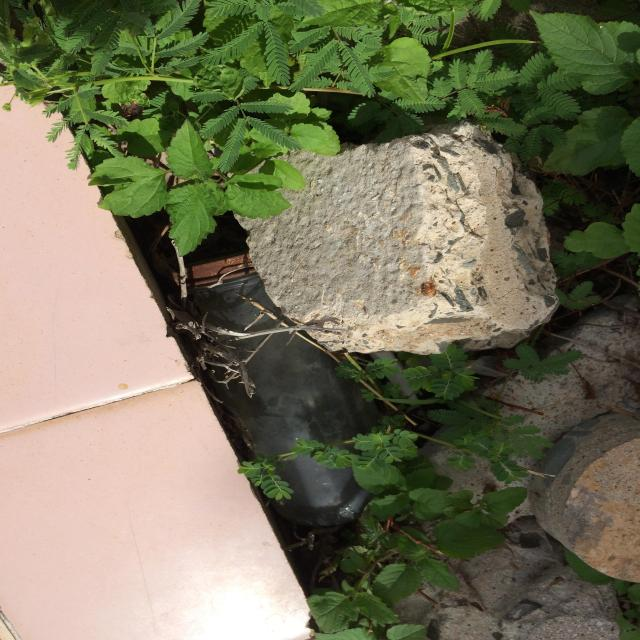litter: (157, 239, 395, 538)
